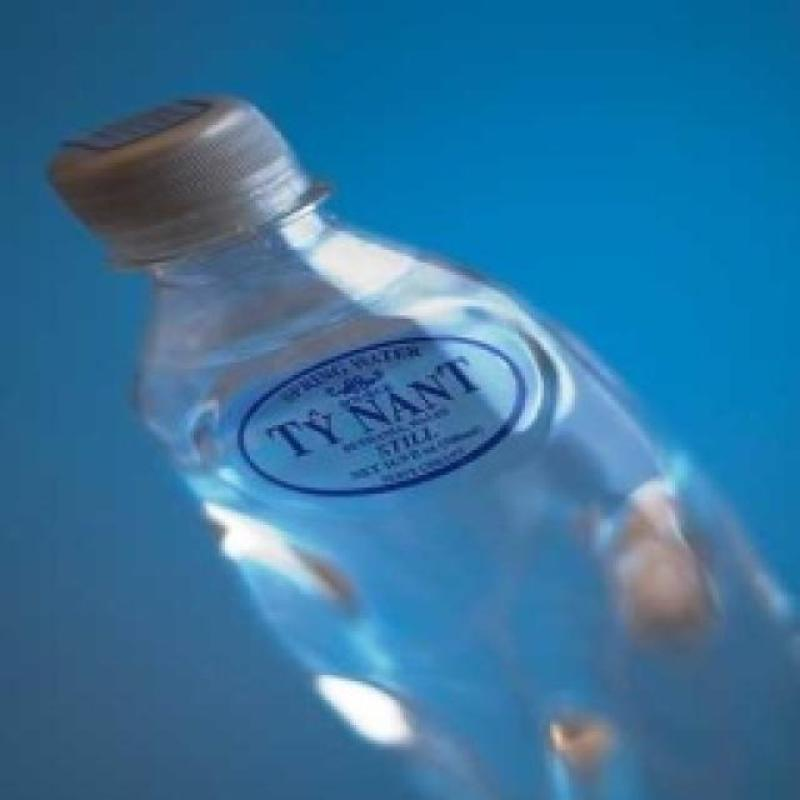botella: (40, 96, 799, 800)
